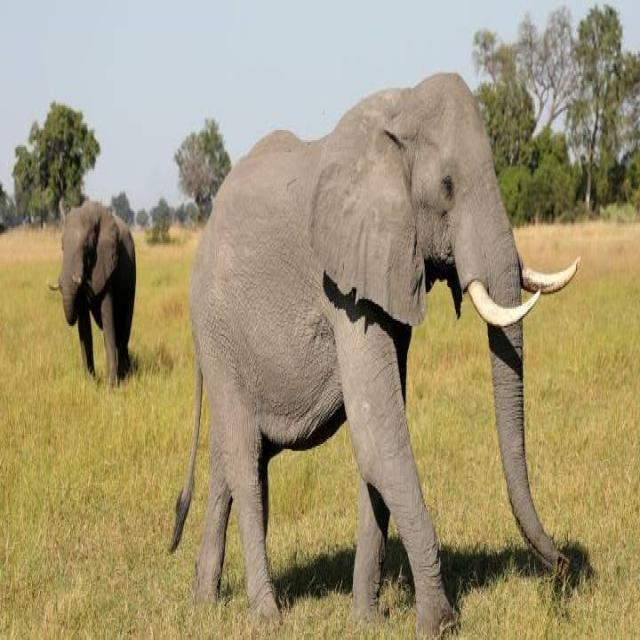Elephant: (168, 69, 581, 637), (48, 196, 136, 388)
